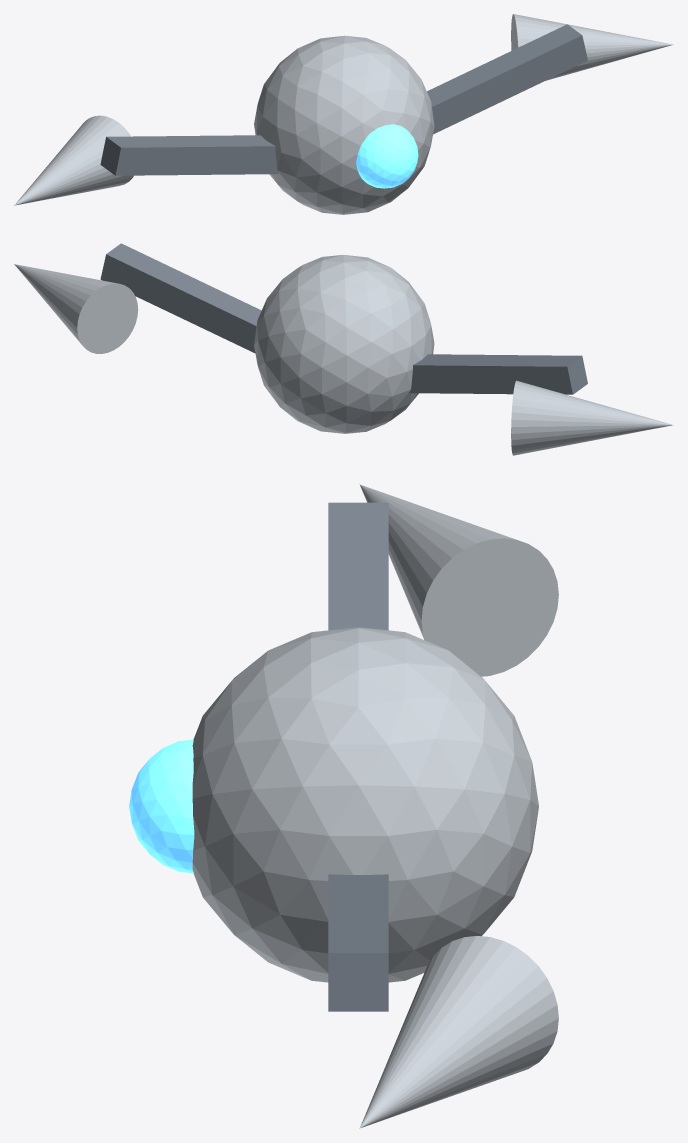
The model's file is drone_02.glb.
The picture shows the model from 3 angles, top to bottom: view 1: azimuth 30°, elevation 25°; view 2: azimuth 150°, elevation 25°; view 3: azimuth 270°, elevation 25°; orthographic projection. The views are drawn at different scales.
Visible parts, largest first — view 1: core, wing1, wing-1, blade-1, blade1, sensor; view 2: core, wing1, wing-1, blade-1, blade1; view 3: core, blade1, blade-1, wing1, wing-1, sensor.
Boxes of the visible parts, x1,y1,x2,y2 form: core: (254, 35, 434, 214); wing1: (427, 24, 587, 134); wing-1: (100, 135, 278, 175); blade-1: (14, 115, 133, 205); blade1: (511, 14, 673, 80); sensor: (356, 124, 418, 188); core: (254, 254, 434, 433); wing1: (100, 243, 261, 352); wing-1: (409, 354, 587, 394); blade-1: (511, 380, 673, 455); blade1: (14, 264, 138, 353); core: (192, 627, 538, 982); blade1: (359, 936, 558, 1128); blade-1: (359, 484, 558, 676); wing1: (328, 874, 388, 1011); wing-1: (328, 502, 388, 630); sensor: (129, 739, 194, 873).
Bounding box in the file's own units: 4.05 × 0.96 × 1.14.
